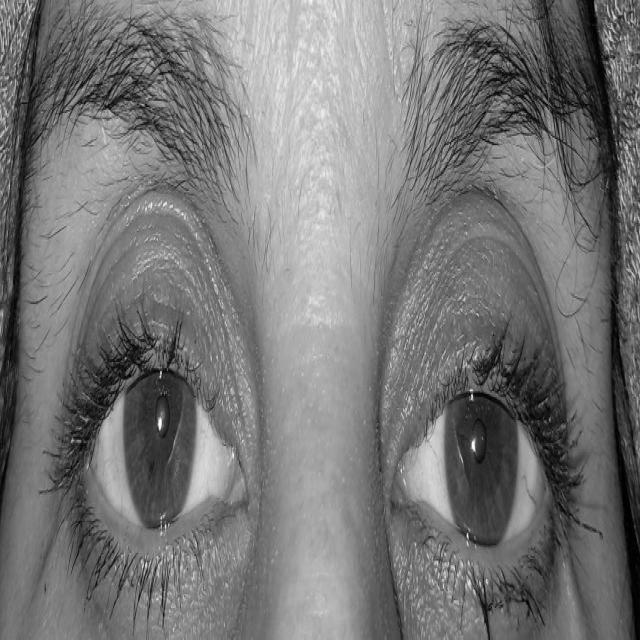real: (39, 65, 594, 627)
